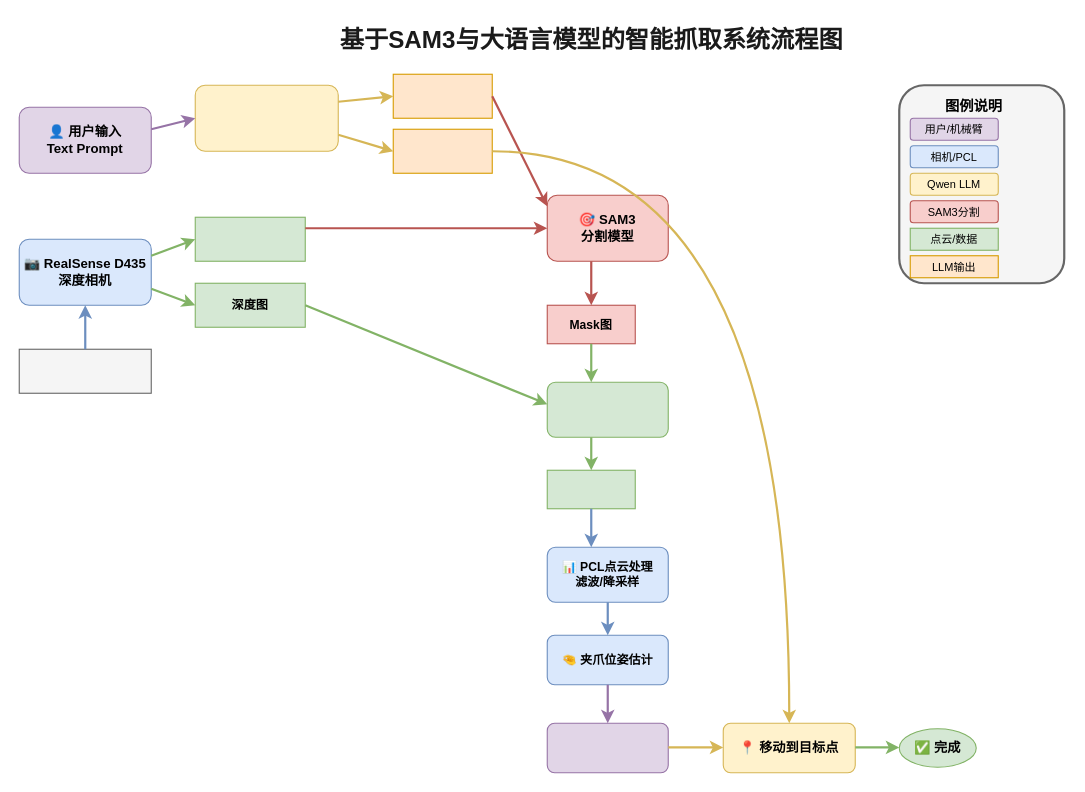
The diagram is 1085 pixels wide and 792 high, and some of its shapes have lost their labels. Here are the shapes that lost their labels. From the top down, the box of each, then its label:
(392, 73, 492, 118): 物体类别 Prompt
(194, 84, 338, 151): 🤖 Qwen2.5-3B 大语言模型
(392, 128, 492, 173): 目标位置 坐标
(194, 216, 305, 261): 2D RGB图像
(18, 348, 151, 393): 🖥️ 桌面场景
(546, 381, 668, 437): Mask + 深度图 点云融合
(546, 469, 635, 509): 物体点云
(546, 722, 668, 773): 🦾 机械臂抓取
